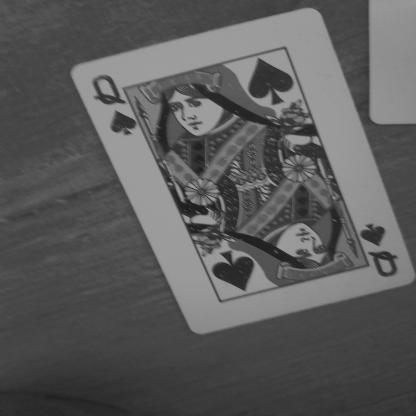QS: (81, 76, 146, 142), (350, 218, 409, 280)
